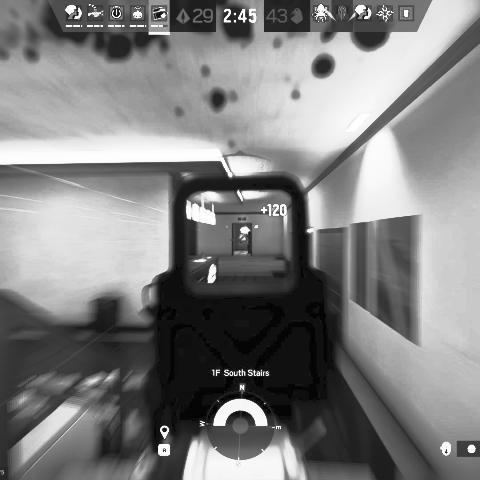Character: (245, 230, 252, 255)
Head: (248, 231, 251, 236)
